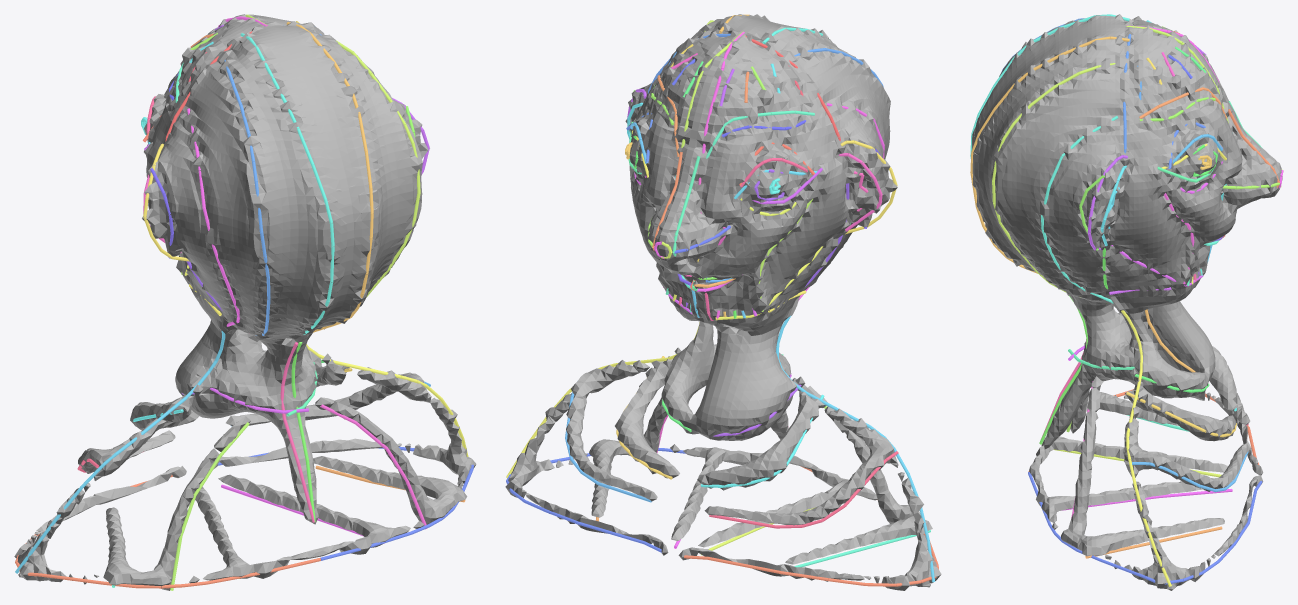
File: author1_bust.gltf
3 views of the same model, side by side, from view 1: azimuth 30°, elevation 25°; view 2: azimuth 150°, elevation 25°; view 3: azimuth 270°, elevation 25° (orthographic). The views are drawn at different scales.
Size of the model in its own units: 0.6246 by 0.6816 by 0.4122.
